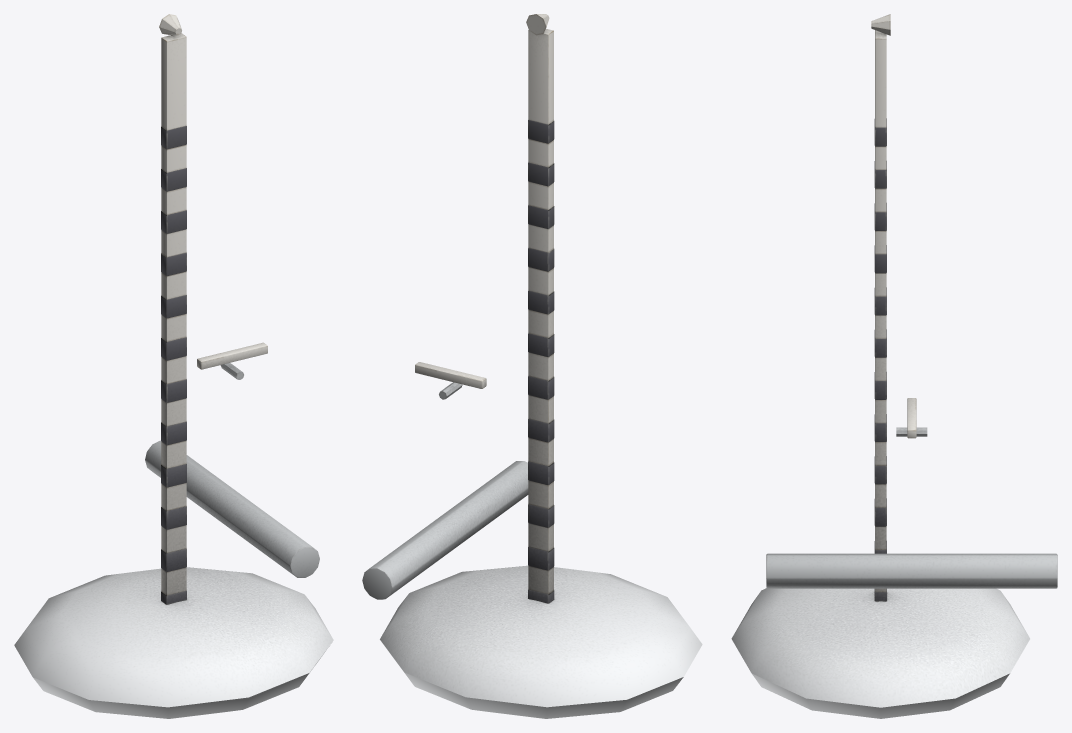
File: snow_stake.glb
3 views of the same model, side by side, from view 1: azimuth 30°, elevation 25°; view 2: azimuth 150°, elevation 25°; view 3: azimuth 270°, elevation 25° (orthographic).
Parts seen in each view (by area): view 1: snow_stake; view 2: snow_stake; view 3: snow_stake.
Boxes of the visible parts, left/top/right/bottom form: snow_stake: left=14, top=14, right=333, bottom=718; snow_stake: left=362, top=14, right=702, bottom=718; snow_stake: left=731, top=14, right=1057, bottom=718.
Bounding box in the file's own units: 0.84 × 1.9 × 0.84.
1 material, 1 textured.
